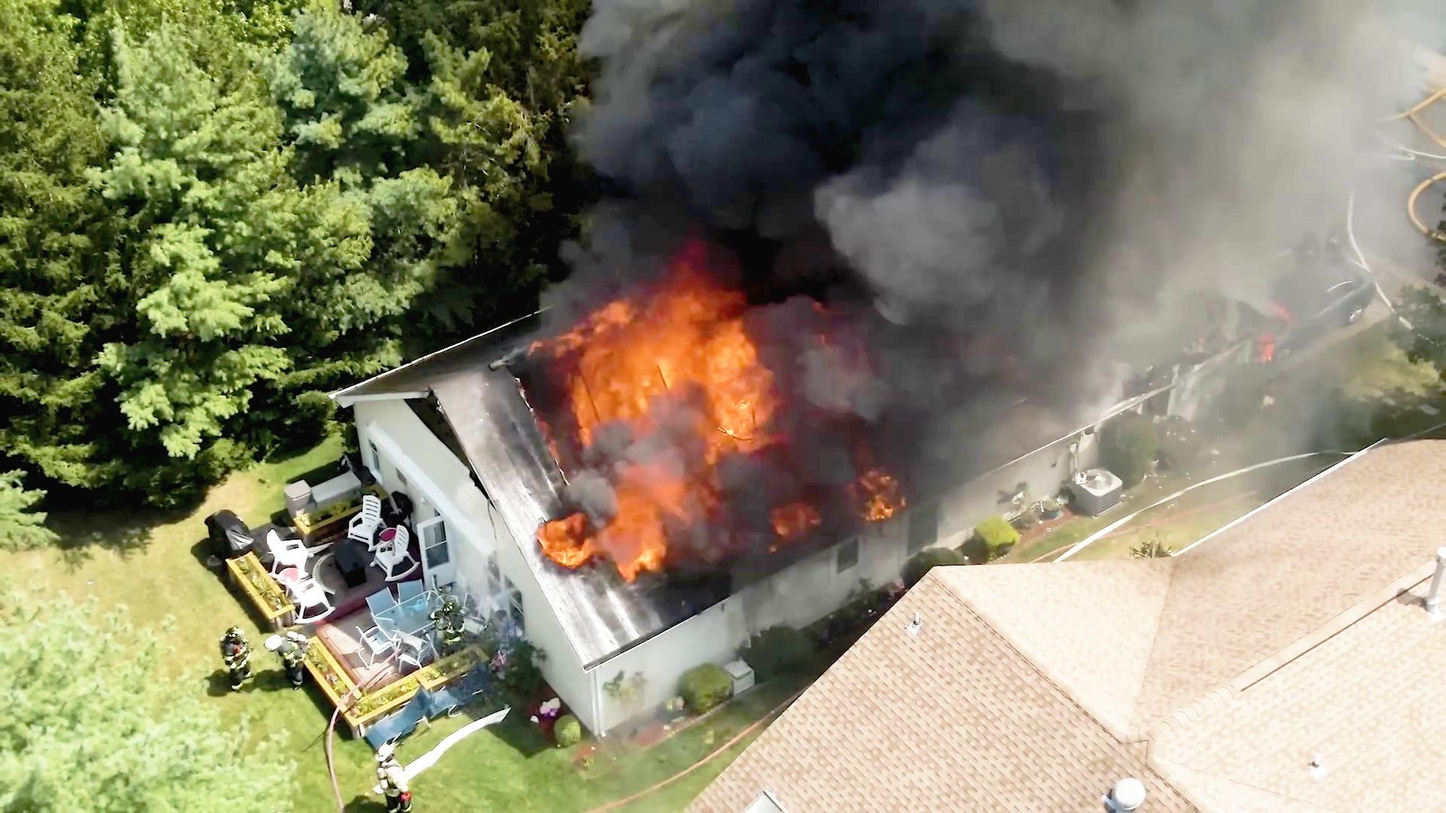fire: (573, 251, 759, 428)
smoke: (635, 0, 1242, 243), (807, 23, 1181, 414)
